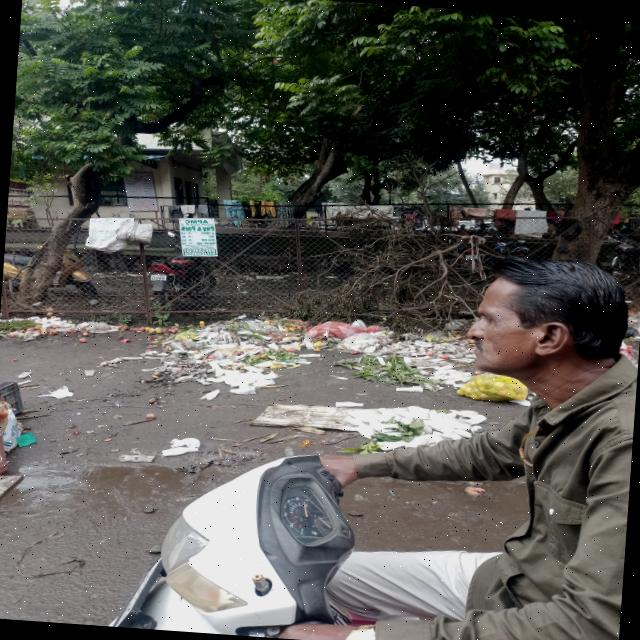garbage: (146, 302, 470, 446), (0, 307, 151, 354)
